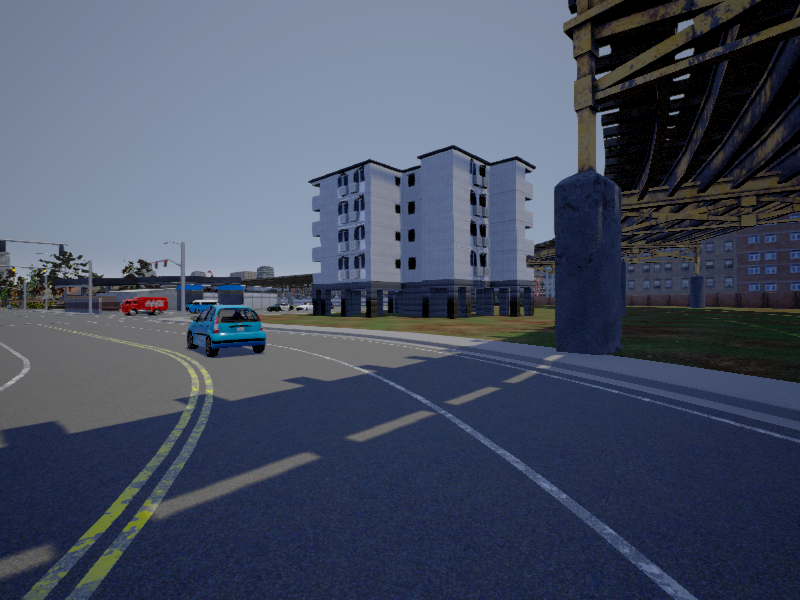Benign: (184, 306, 267, 356), (118, 294, 171, 318), (187, 300, 220, 315), (267, 304, 295, 315)
